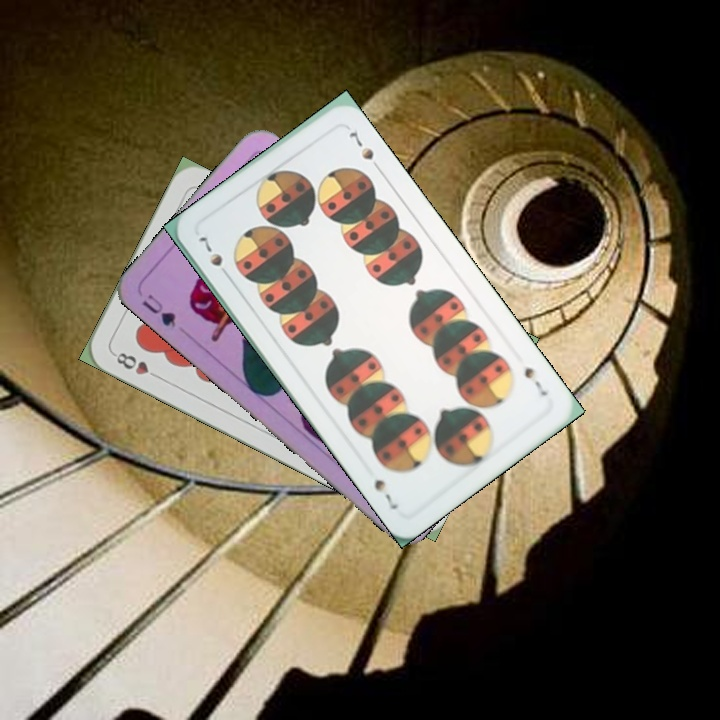GU: (137, 290, 179, 330)
H8: (109, 348, 164, 382)
S7: (195, 232, 234, 282), (520, 363, 551, 399)
